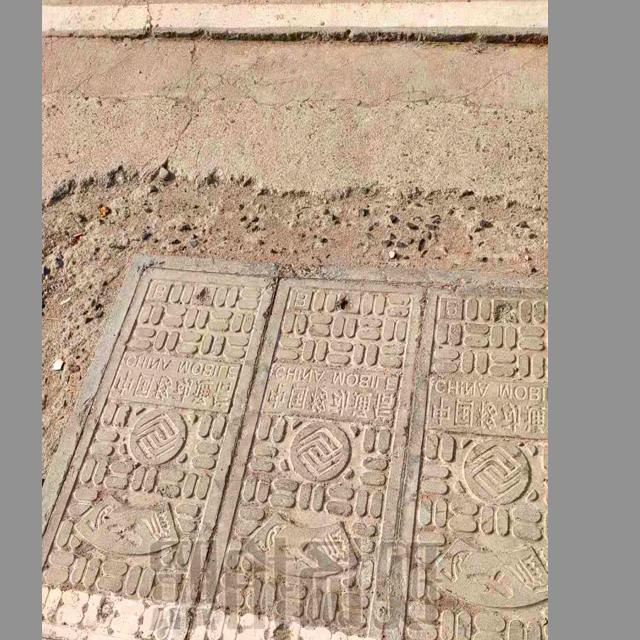good: (41, 251, 548, 640)
